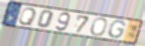0: (36, 9, 55, 30)
7: (75, 15, 91, 34)
9: (55, 11, 71, 32)
G: (107, 20, 126, 40)
O: (89, 17, 108, 37)
Q: (17, 7, 38, 27)
